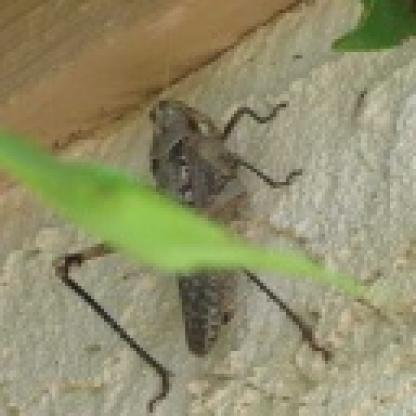grasshopper: (53, 91, 340, 360)
